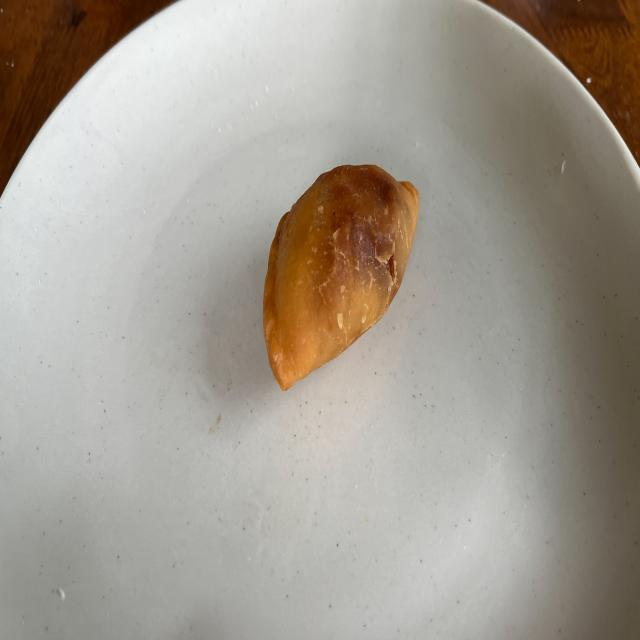karipap: (264, 164, 419, 391)
